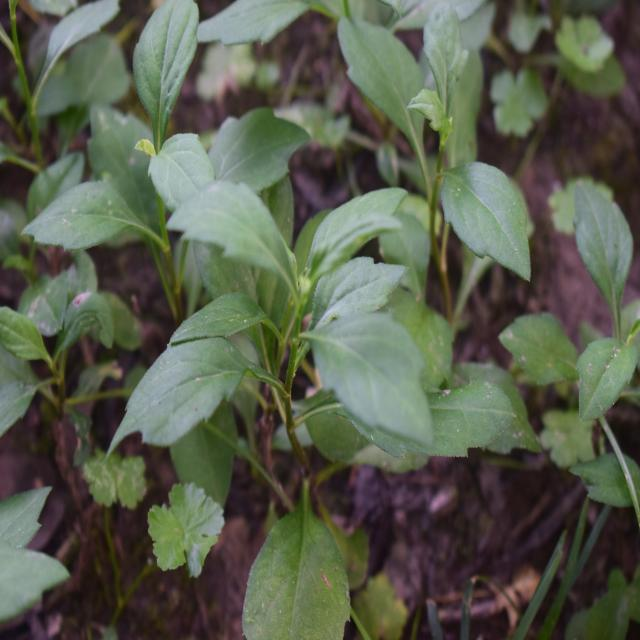Indian aster: (150, 171, 452, 505), (323, 14, 533, 264)
